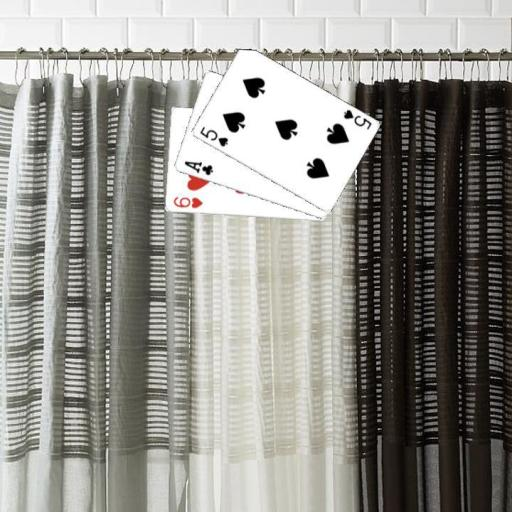5S: (196, 124, 229, 149), (340, 106, 373, 131)
6H: (170, 194, 204, 210)
AC: (181, 158, 214, 177)
